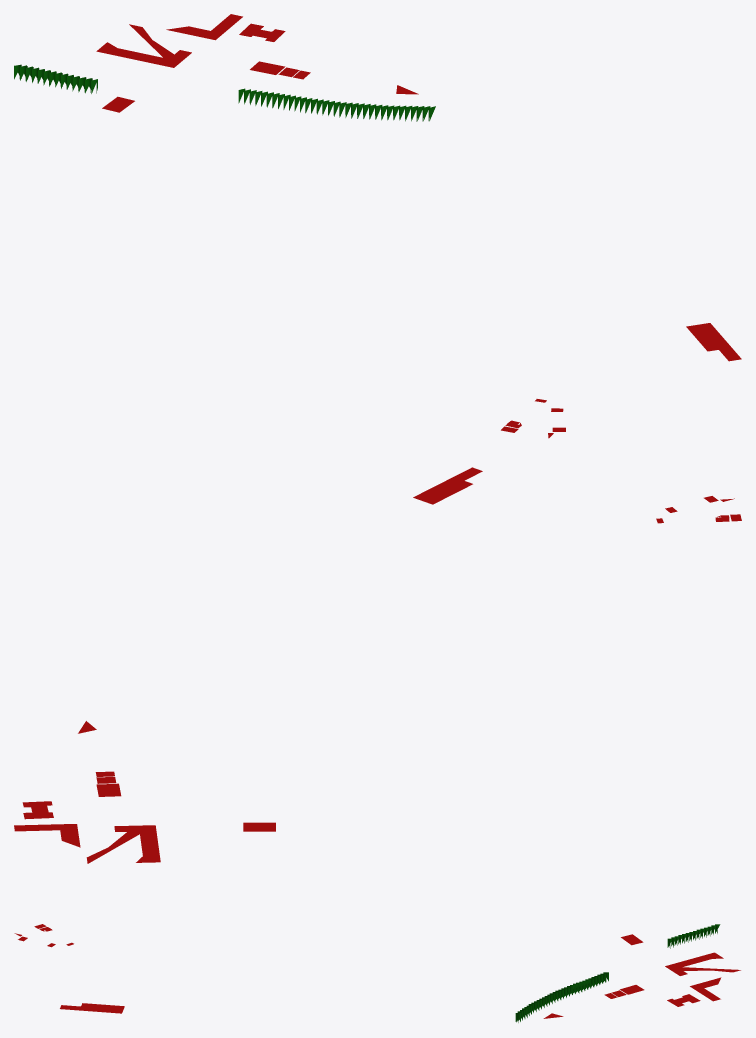
3 views of the same model, one above another, from view 1: azimuth 30°, elevation 25°; view 2: azimuth 150°, elevation 25°; view 3: azimuth 270°, elevation 25° (orthographic). The views are drawn at different scales.
Size of the model in its own units: 208 by 10 by 674.
